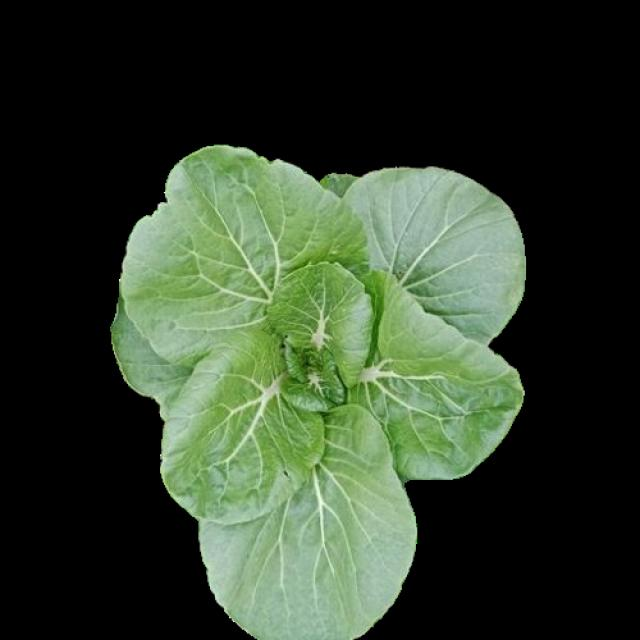healthy: (111, 145, 529, 638)
mature: (114, 147, 531, 640)
